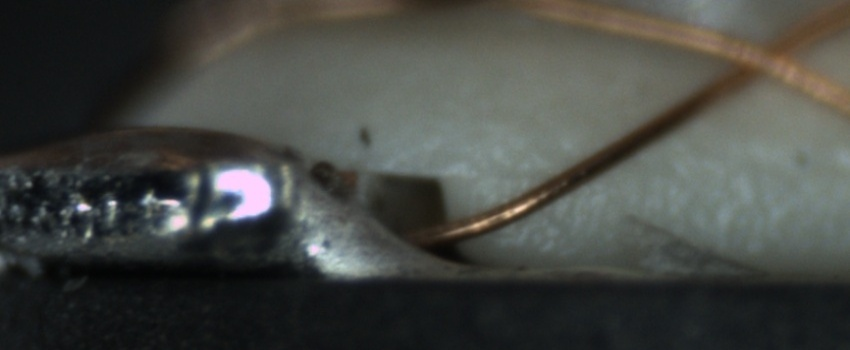CL: (715, 28, 810, 90)
DL: (475, 154, 573, 197)
